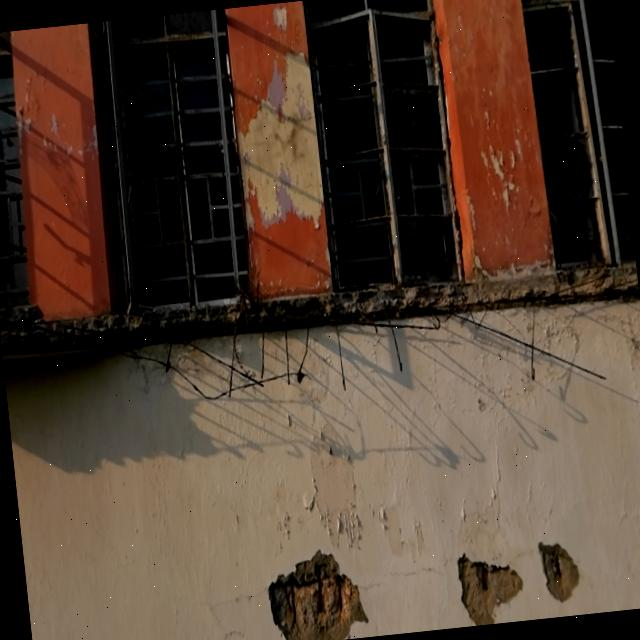Paint Peeling: (238, 57, 321, 225)
Scaling: (268, 551, 366, 640), (457, 554, 522, 625), (538, 542, 579, 602)
Spalling: (0, 262, 639, 356)
